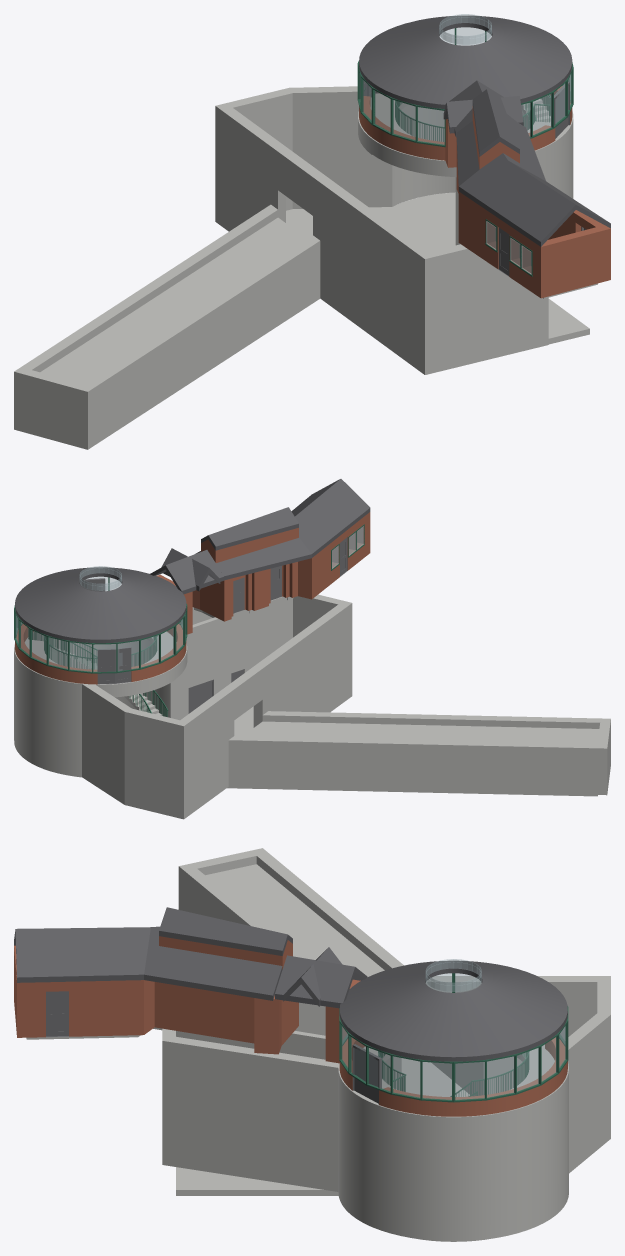
File: the-drum.glb
3 renders of one model, top to bottom at view 1: azimuth 30°, elevation 25°; view 2: azimuth 150°, elevation 25°; view 3: azimuth 270°, elevation 25°, orthographic. The views are drawn at different scales.
Parts seen in each view (by area): view 1: Basic Wall Concrete 600mm [1696712], Basic Wall Concrete 600mm [1696627], Basic Roof Wood Rafter 184mm - Asphalt Shingle [1702047], Basic Wall Concrete 600mm [1701894], Basic Ceiling Generic [1697219], Basic Roof Wood Rafter 184mm - Asphalt Shingle [1701303], Basic Wall Concrete 600mm [1696211], Basic Wall Concrete 600mm [1696526], Floor Generic 300mm [1700320], Basic Wall Concrete 600mm [1696571], Basic Wall Concrete 600mm [1696111], Basic Wall M_Exterior - Brick on CMU [1688735] (+12 smaller); view 2: Basic Wall Concrete 600mm [1696526], Basic Wall Concrete 600mm [1696712], Basic Roof Wood Rafter 184mm - Asphalt Shingle [1702047], Basic Wall Concrete 600mm [1696297], Basic Wall Concrete 600mm [1696111], Basic Wall Retaining - 300mm Concrete [1705306], Basic Ceiling Generic [1697219], Basic Roof Wood Rafter 184mm - Asphalt Shingle [1701303], Basic Wall Concrete 600mm [1696627], Basic Wall Concrete 600mm [1696211], Basic Wall Concrete 600mm [1696112], Basic Wall M_Exterior - Brick on CMU [1688735] (+20 smaller); view 3: Basic Wall Concrete 600mm [1696798], Basic Roof Wood Rafter 184mm - Asphalt Shingle [1702047], Basic Wall Concrete 600mm [1696112], Basic Wall Concrete 600mm [1696111], Basic Roof Wood Rafter 184mm - Asphalt Shingle [1701303], Basic Ceiling Generic [1697219], Basic Wall M_Exterior - Brick on CMU [1683124], Basic Wall Concrete 600mm [1696712], Basic Wall M_Exterior - Brick on CMU [1683896], Floor Generic 300mm [1700320], Basic Wall Concrete 600mm [1696211], Basic Wall Concrete 600mm [1696526] (+26 smaller).
Boxes of the visible parts, bbox=[...] form: Basic Wall Concrete 600mm [1696712]: bbox=[221, 108, 435, 374]; Basic Wall Concrete 600mm [1696627]: bbox=[84, 235, 320, 444]; Basic Roof Wood Rafter 184mm - Asphalt Shingle [1702047]: bbox=[359, 15, 572, 108]; Basic Wall Concrete 600mm [1701894]: bbox=[430, 244, 548, 372]; Basic Ceiling Generic [1697219]: bbox=[40, 217, 306, 384]; Basic Roof Wood Rafter 184mm - Asphalt Shingle [1701303]: bbox=[456, 116, 610, 246]; Basic Wall Concrete 600mm [1696211]: bbox=[292, 86, 375, 208]; Basic Wall Concrete 600mm [1696526]: bbox=[14, 204, 277, 432]; Floor Generic 300mm [1700320]: bbox=[286, 192, 589, 344]; Basic Wall Concrete 600mm [1696571]: bbox=[24, 370, 94, 449]; Basic Wall Concrete 600mm [1696111]: bbox=[358, 93, 547, 207]; Basic Wall M_Exterior - Brick on CMU [1688735]: bbox=[464, 195, 549, 298]; Basic Wall Concrete 600mm [1696526]: bbox=[228, 736, 607, 795]; Basic Wall Concrete 600mm [1696712]: bbox=[180, 600, 352, 815]; Basic Roof Wood Rafter 184mm - Asphalt Shingle [1702047]: bbox=[15, 567, 186, 643]; Basic Wall Concrete 600mm [1696297]: bbox=[112, 704, 188, 819]; Basic Wall Concrete 600mm [1696111]: bbox=[14, 632, 175, 777]; Basic Wall Retaining - 300mm Concrete [1705306]: bbox=[178, 596, 292, 720]; Basic Ceiling Generic [1697219]: bbox=[243, 721, 599, 743]; Basic Roof Wood Rafter 184mm - Asphalt Shingle [1701303]: bbox=[195, 479, 370, 580]; Basic Wall Concrete 600mm [1696627]: bbox=[262, 711, 600, 728]; Basic Wall Concrete 600mm [1696211]: bbox=[82, 684, 131, 796]; Basic Wall Concrete 600mm [1696112]: bbox=[34, 631, 187, 719]; Basic Wall M_Exterior - Brick on CMU [1688735]: bbox=[316, 512, 370, 595]; Basic Wall Concrete 600mm [1696798]: bbox=[176, 1036, 338, 1191]; Basic Roof Wood Rafter 184mm - Asphalt Shingle [1702047]: bbox=[339, 960, 567, 1061]; Basic Wall Concrete 600mm [1696112]: bbox=[338, 1046, 453, 1241]; Basic Wall Concrete 600mm [1696111]: bbox=[453, 1044, 568, 1241]; Basic Roof Wood Rafter 184mm - Asphalt Shingle [1701303]: bbox=[14, 926, 282, 1000]; Basic Ceiling Generic [1697219]: bbox=[205, 864, 384, 975]; Basic Wall M_Exterior - Brick on CMU [1683124]: bbox=[16, 978, 130, 1037]; Basic Wall Concrete 600mm [1696712]: bbox=[295, 976, 597, 1095]; Basic Wall M_Exterior - Brick on CMU [1683896]: bbox=[154, 982, 254, 1043]; Floor Generic 300mm [1700320]: bbox=[176, 1058, 486, 1241]; Basic Wall Concrete 600mm [1696211]: bbox=[568, 1013, 597, 1173]; Basic Wall Concrete 600mm [1696526]: bbox=[251, 848, 476, 1095].
Bounding box in the file's own units: 34.35 × 11.58 × 26.15.
